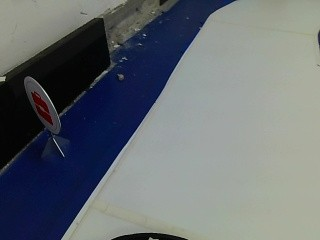company: (21, 73, 63, 136)
